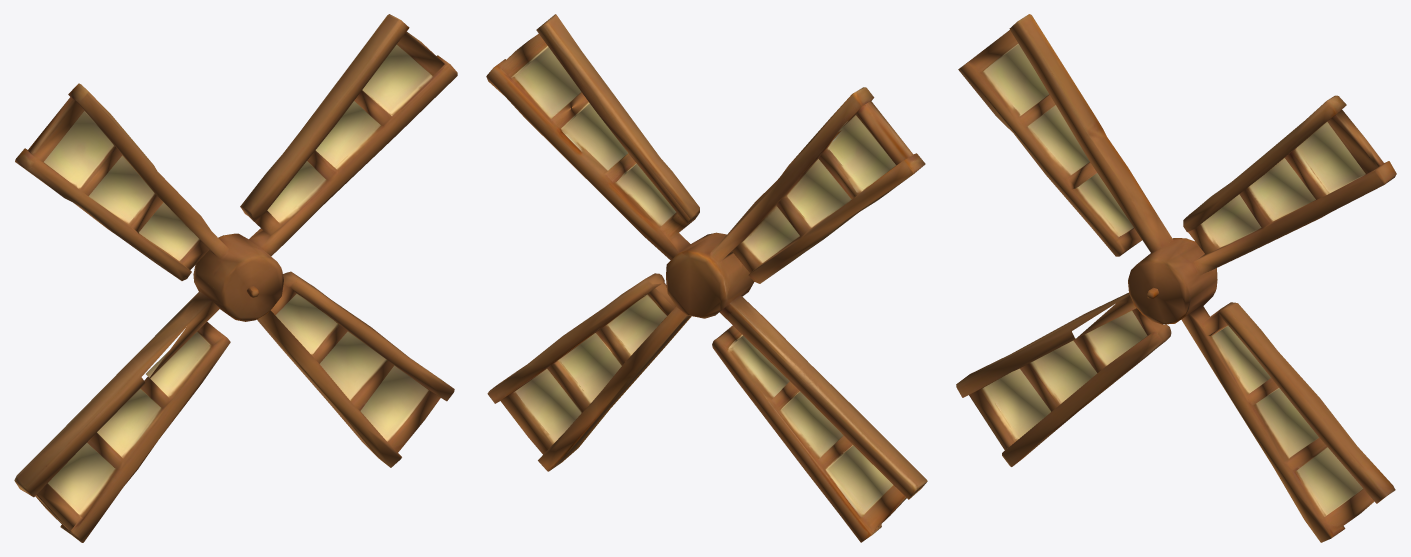
File: windmill_sails_tripo.glb
The picture shows the model from 3 angles, left to right: view 1: azimuth 30°, elevation 25°; view 2: azimuth 150°, elevation 25°; view 3: azimuth 330°, elevation 25°; orthographic projection.
Parts seen in each view (by area): view 1: tripo_node_76275edb-abd8-4e46-992a-a841b92a689f; view 2: tripo_node_76275edb-abd8-4e46-992a-a841b92a689f; view 3: tripo_node_76275edb-abd8-4e46-992a-a841b92a689f.
Part boxes in pixels (x1,y1,x2,y2): tripo_node_76275edb-abd8-4e46-992a-a841b92a689f: (14,14,457,542); tripo_node_76275edb-abd8-4e46-992a-a841b92a689f: (486,14,927,542); tripo_node_76275edb-abd8-4e46-992a-a841b92a689f: (956,14,1396,542).
Bounding box in the file's own units: 76.54 × 76.55 × 11.14.
1 material, 1 textured.
